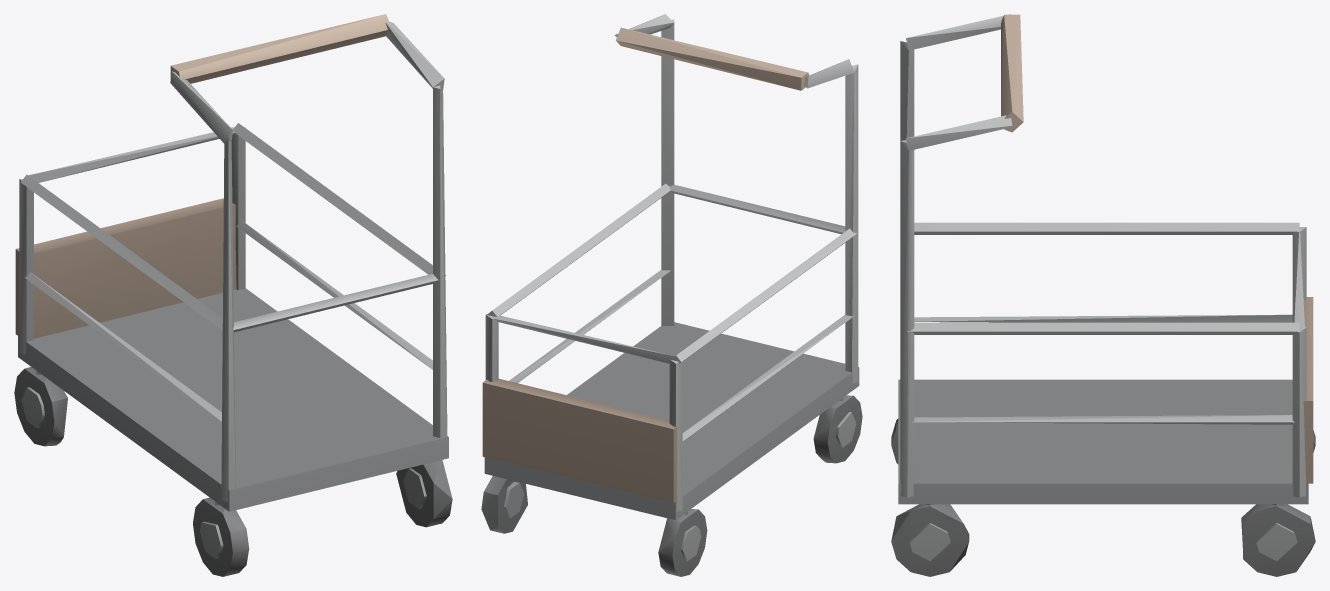
File: trolley.lod1.glb
The picture shows the model from 3 angles, left to right: view 1: azimuth 30°, elevation 25°; view 2: azimuth 150°, elevation 25°; view 3: azimuth 270°, elevation 25°; orthographic projection. The views are drawn at different scales.
Bounding box in the file's own units: 0.556 × 1.12 × 0.931.
